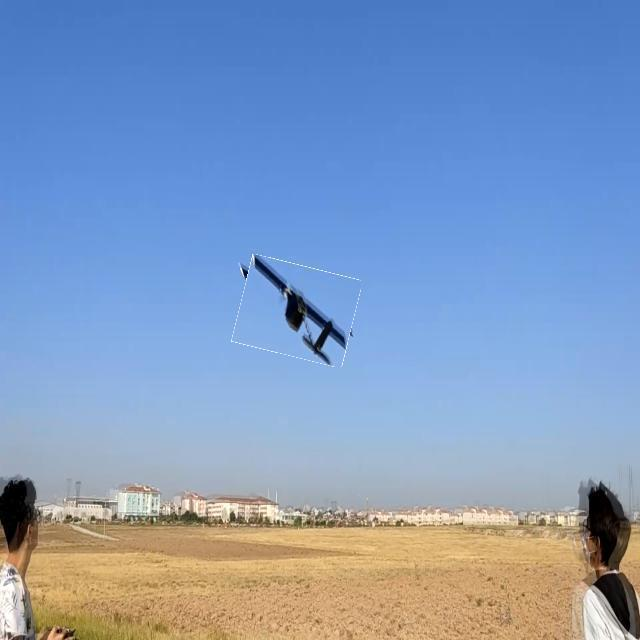UAV: (194, 274, 374, 372)
